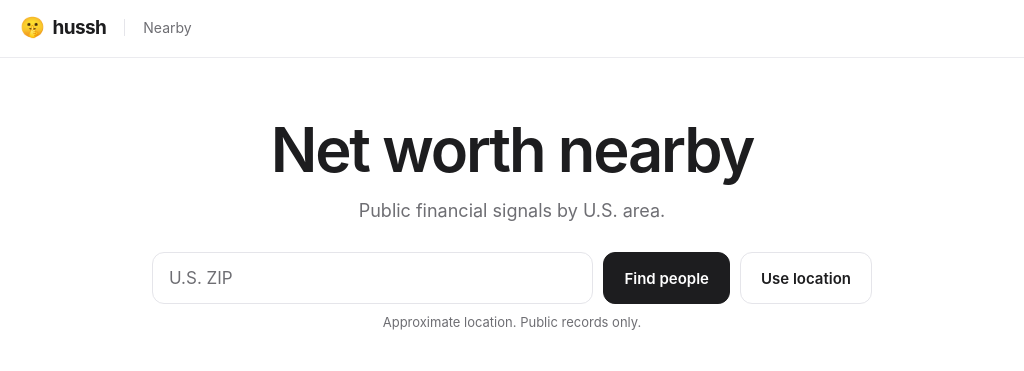
NearbyPeople v4 › rejects a malformed ZIP before any request
Type "980-33" into the field named "U.S. ZIP code" at (373, 278), box x1=152 y1=252 x2=593 y2=304
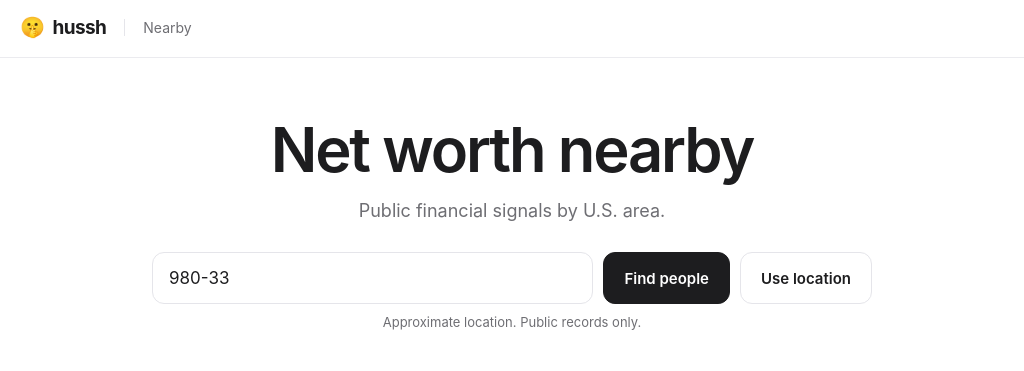
Click the button "Find people" at (667, 278), box x1=603 y1=252 x2=730 y2=304
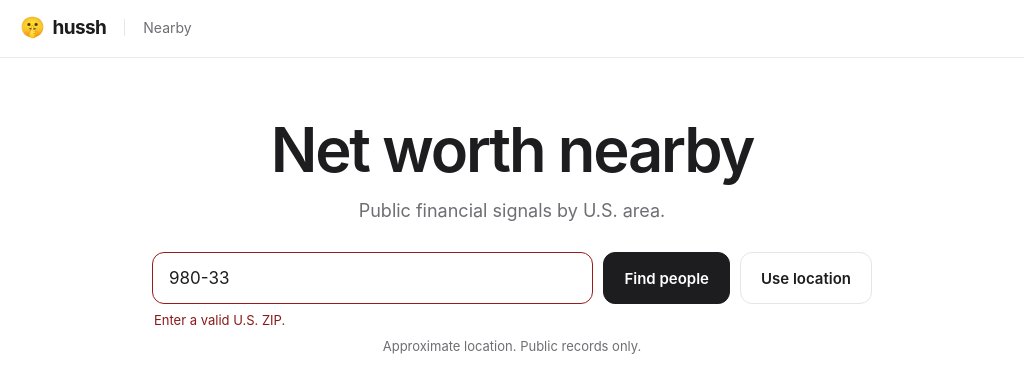
expect the text "Enter a valid U.S. ZIP." is shown: met, box x1=154 y1=312 x2=285 y2=328
